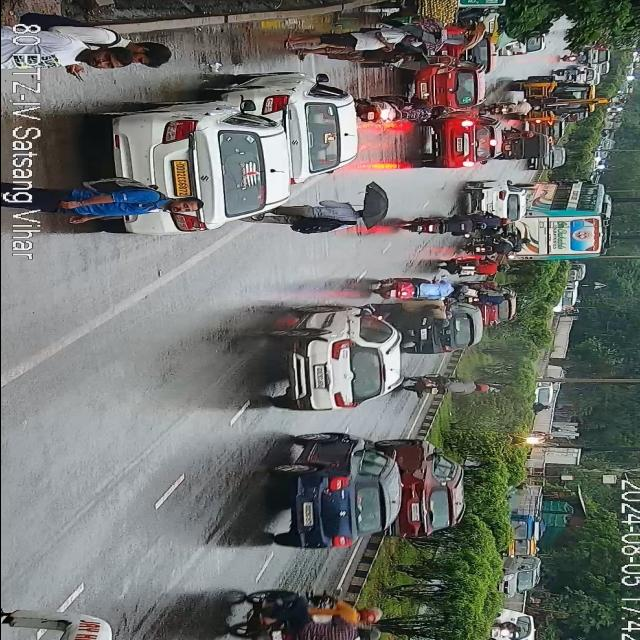2-wheelers: (232, 590, 336, 640), (290, 594, 374, 640), (375, 275, 459, 307), (402, 377, 492, 402), (454, 212, 506, 242), (444, 253, 502, 279), (412, 214, 464, 242), (458, 289, 511, 305), (524, 432, 552, 444), (560, 54, 588, 64)
auto: (500, 515, 540, 557), (500, 132, 546, 166)
bus: (512, 180, 608, 264)
car: (101, 84, 291, 235), (272, 307, 400, 422), (271, 436, 393, 550), (250, 76, 354, 182), (387, 440, 463, 546), (426, 118, 496, 176), (404, 305, 476, 361), (417, 61, 481, 112), (478, 186, 523, 232), (471, 282, 518, 326), (476, 609, 536, 640), (497, 558, 540, 598), (497, 32, 548, 56), (532, 144, 564, 174), (584, 45, 612, 64)
pedestrian: (55, 183, 194, 230), (58, 20, 178, 70), (0, 30, 136, 74), (270, 197, 391, 230), (293, 27, 421, 55)
truck: (514, 73, 596, 125)
